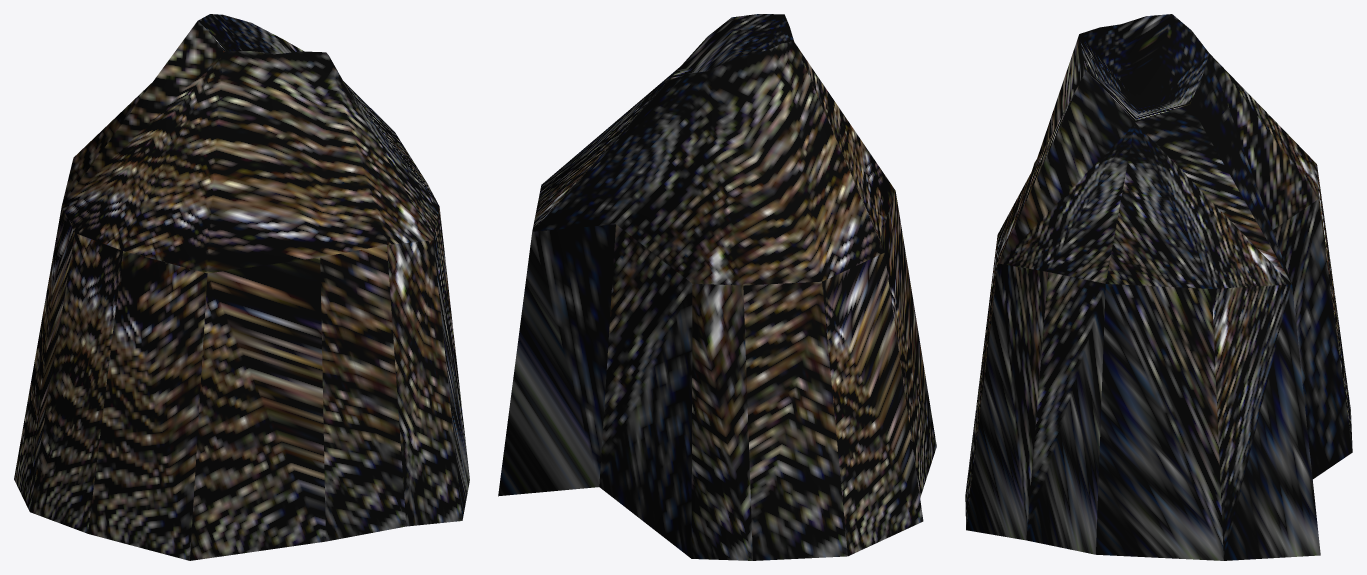
Rendered from vulcano2.dae.
The picture shows the model from 3 angles, left to right: view 1: azimuth 30°, elevation 25°; view 2: azimuth 150°, elevation 25°; view 3: azimuth 270°, elevation 25°; orthographic projection. The views are drawn at different scales.
Visible parts, largest first — view 1: Cylinder; view 2: Cylinder; view 3: Cylinder.
Boxes of the visible parts, left/top/right/bottom form: Cylinder: left=14, top=14, right=469, bottom=560; Cylinder: left=498, top=14, right=936, bottom=560; Cylinder: left=965, top=14, right=1352, bottom=560.
Bounding box in the file's own units: 6.5 × 5.52 × 7.
Materials: 1 (1 with a texture image).
